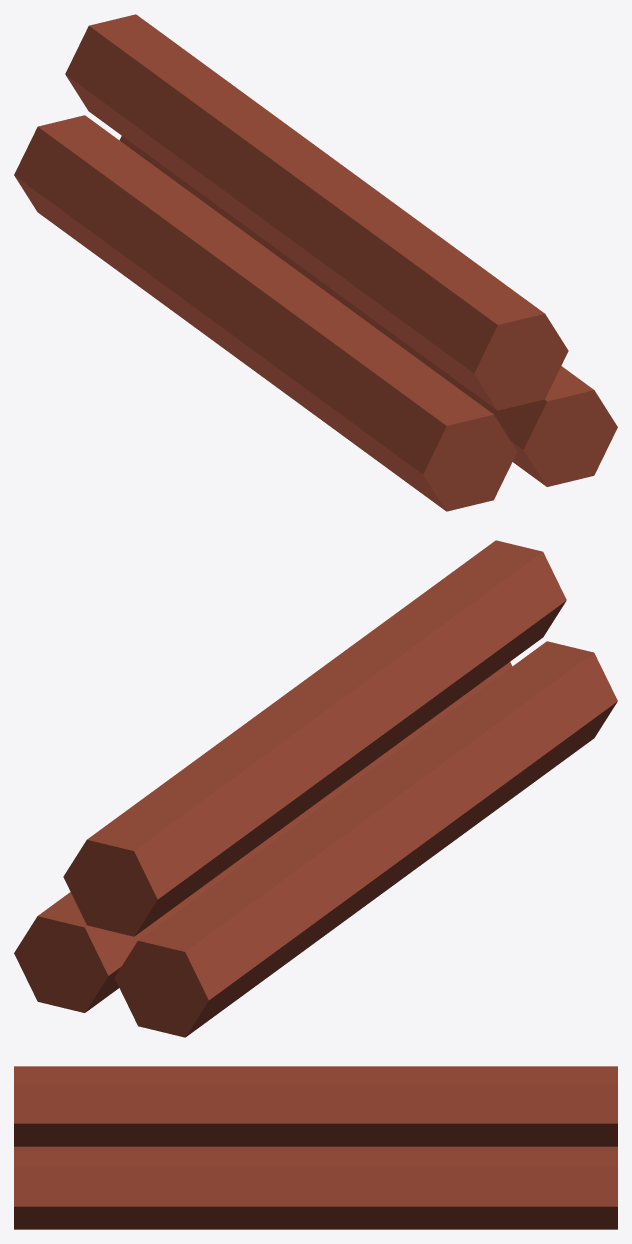
Rendered from stick.fbx.
3 renders of one model, top to bottom at view 1: azimuth 30°, elevation 25°; view 2: azimuth 150°, elevation 25°; view 3: azimuth 270°, elevation 25°, orthographic. The views are drawn at different scales.
Visible parts, largest first — view 1: Cylinder; view 2: Cylinder; view 3: Cylinder.
Boxes of the visible parts, box(x1,y1,x2,y2) form: Cylinder: box(14, 14, 617, 511); Cylinder: box(14, 540, 617, 1037); Cylinder: box(14, 1066, 617, 1229).
Bounding box in the file's own units: 8.25 × 7.05 × 30.
